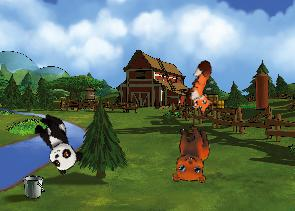bear: (165, 123, 213, 186)
fox: (178, 58, 231, 119)
panda: (27, 109, 86, 176)
